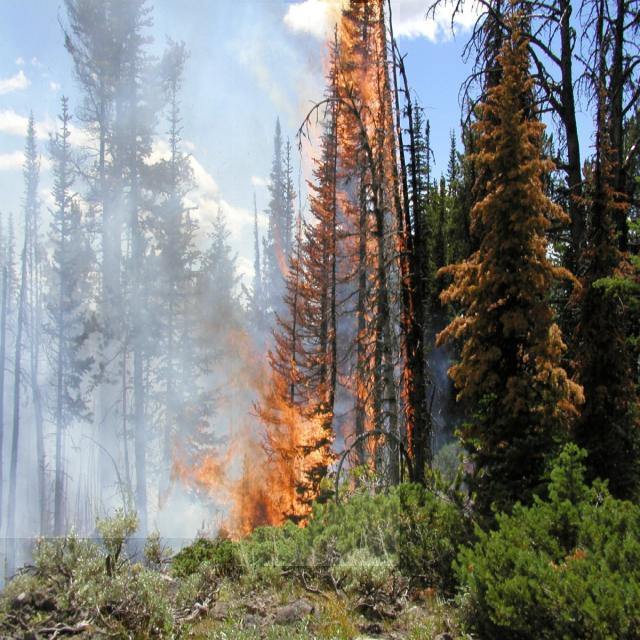Fire: (232, 3, 400, 566)
Smoke: (0, 0, 284, 538)
